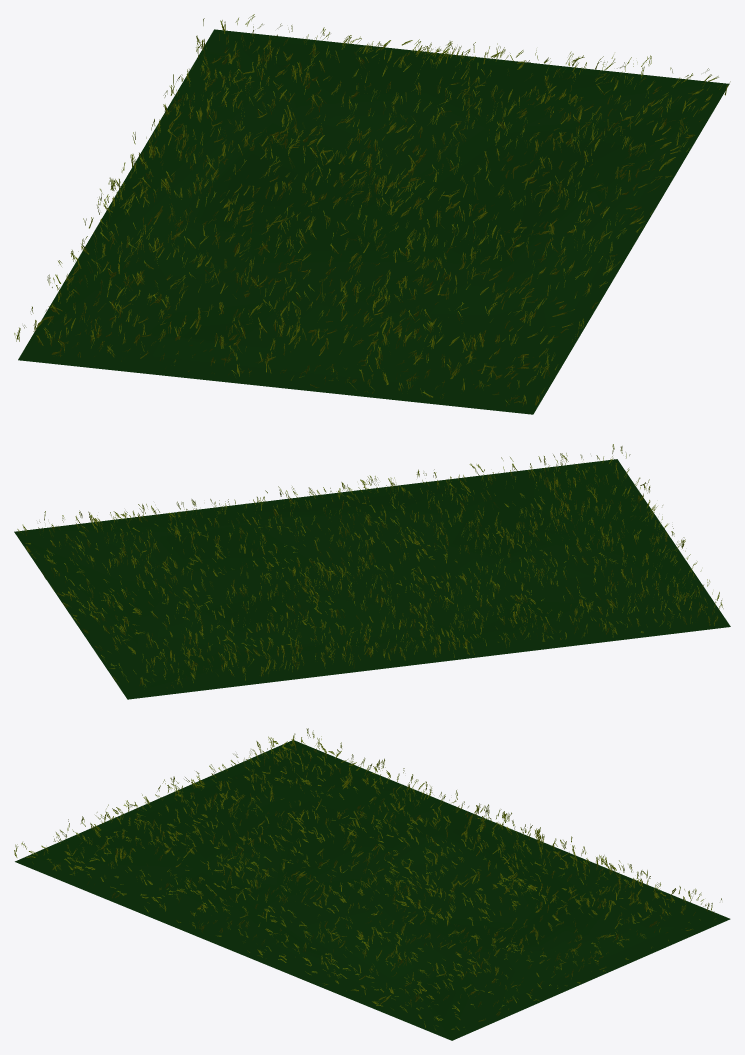
File: field-dry-grass.glb
3 views of the same model, one above another, from view 1: azimuth 30°, elevation 25°; view 2: azimuth 150°, elevation 25°; view 3: azimuth 270°, elevation 25° (orthographic). The views are drawn at different scales.
Visible parts, largest first — view 1: Carpet 2_0; view 2: Carpet 2_0; view 3: Carpet 2_0.
Part boxes in pixels (left/top/right/bottom): Carpet 2_0: left=14, top=14, right=730, bottom=414; Carpet 2_0: left=14, top=444, right=730, bottom=699; Carpet 2_0: left=14, top=728, right=730, bottom=1040.
Size of the model in its own units: 5.4 by 0.1809 by 5.44.
